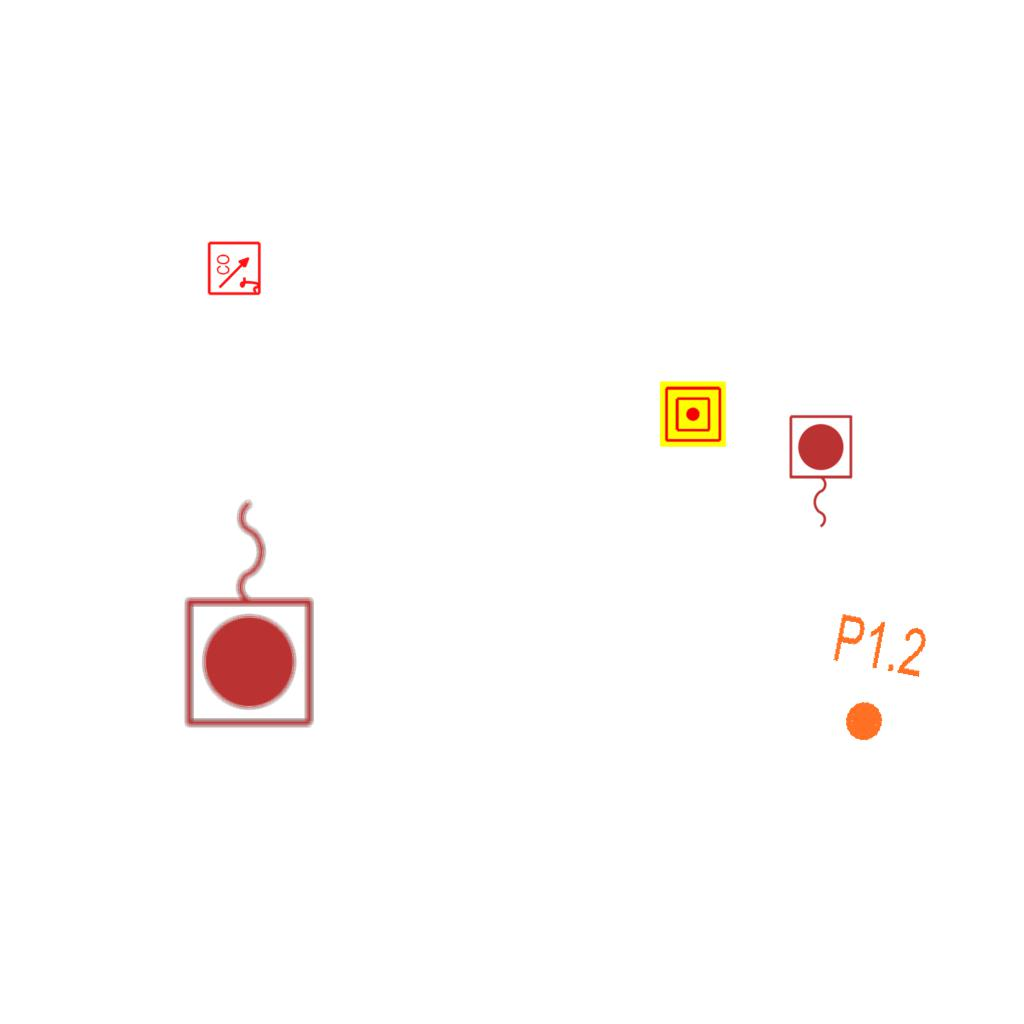Downlight_LED_Einbauleuchten_Flur: (815, 609, 932, 753)
NAM-Nichtautomatischer_Melder: (660, 381, 726, 447)
ROA_Rauchmelder_optisch_mit_Signalgeber_(Sockelsirene): (207, 240, 263, 296)
Zugtaster: (179, 490, 323, 734), (784, 411, 856, 533)
